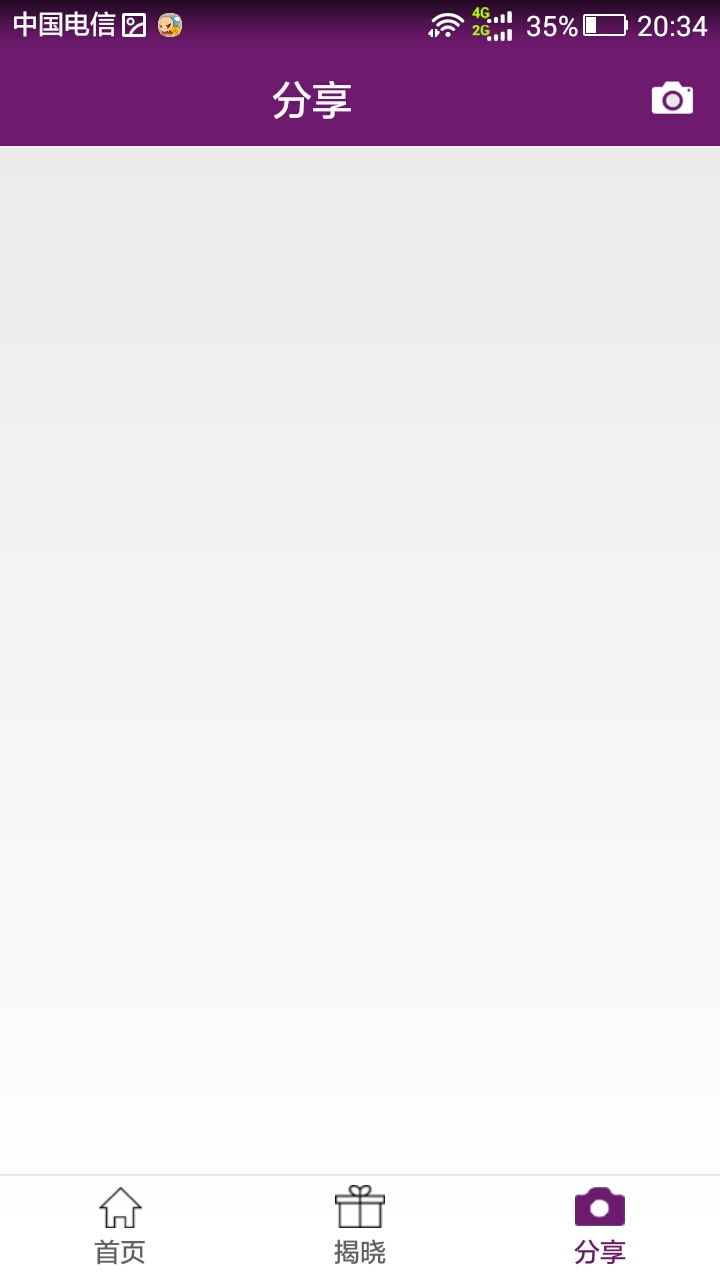imgbutton: (633, 70, 704, 128)
nav: (4, 1181, 663, 1280)
